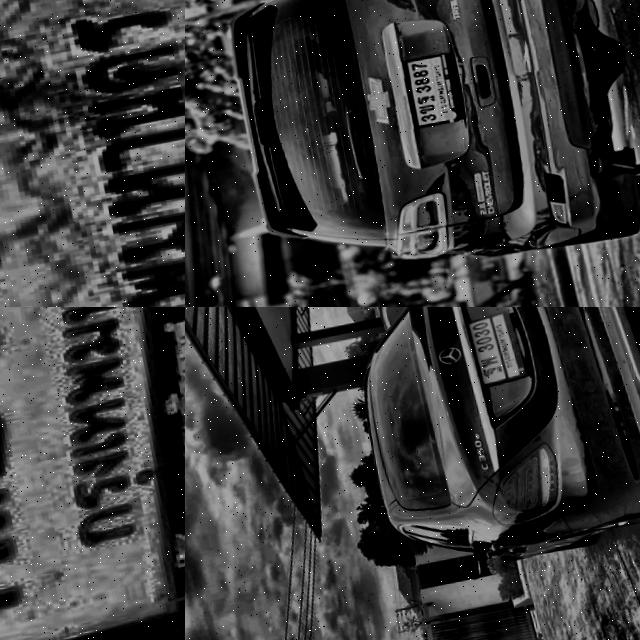license-plate: (0, 307, 185, 640), (0, 0, 185, 307), (392, 56, 456, 137), (454, 316, 518, 397)
